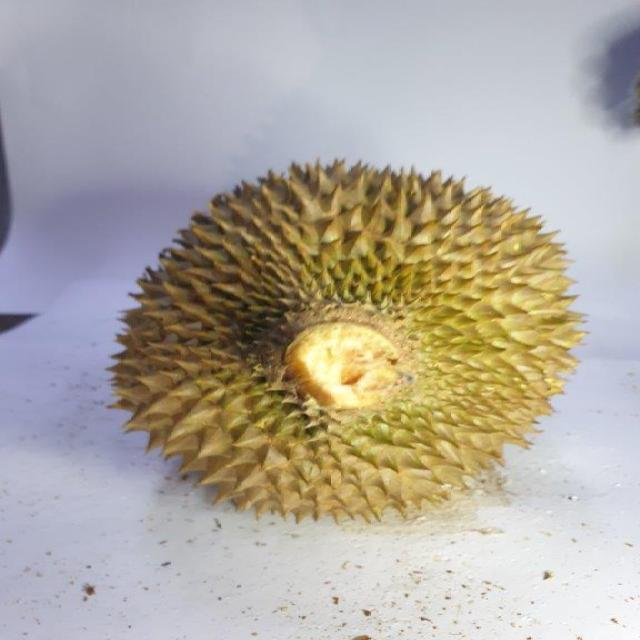mature: (111, 159, 589, 529)
